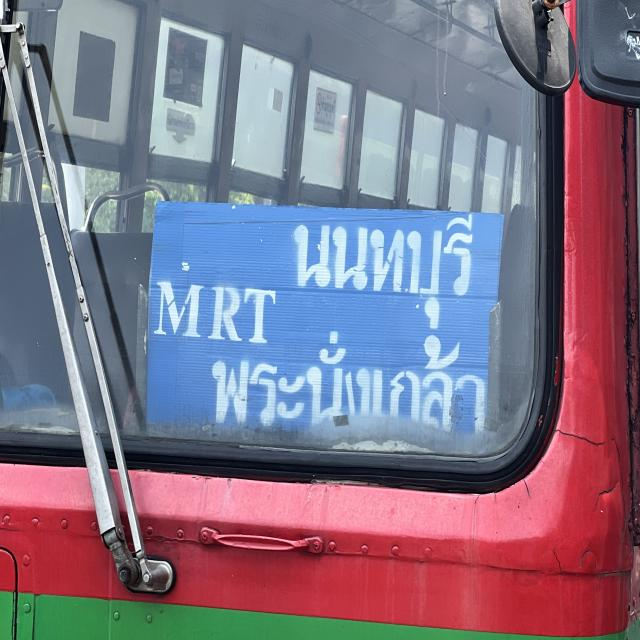BMTA-bus: (0, 0, 640, 640)
Destination-Sign-Normal: (152, 198, 514, 444)
